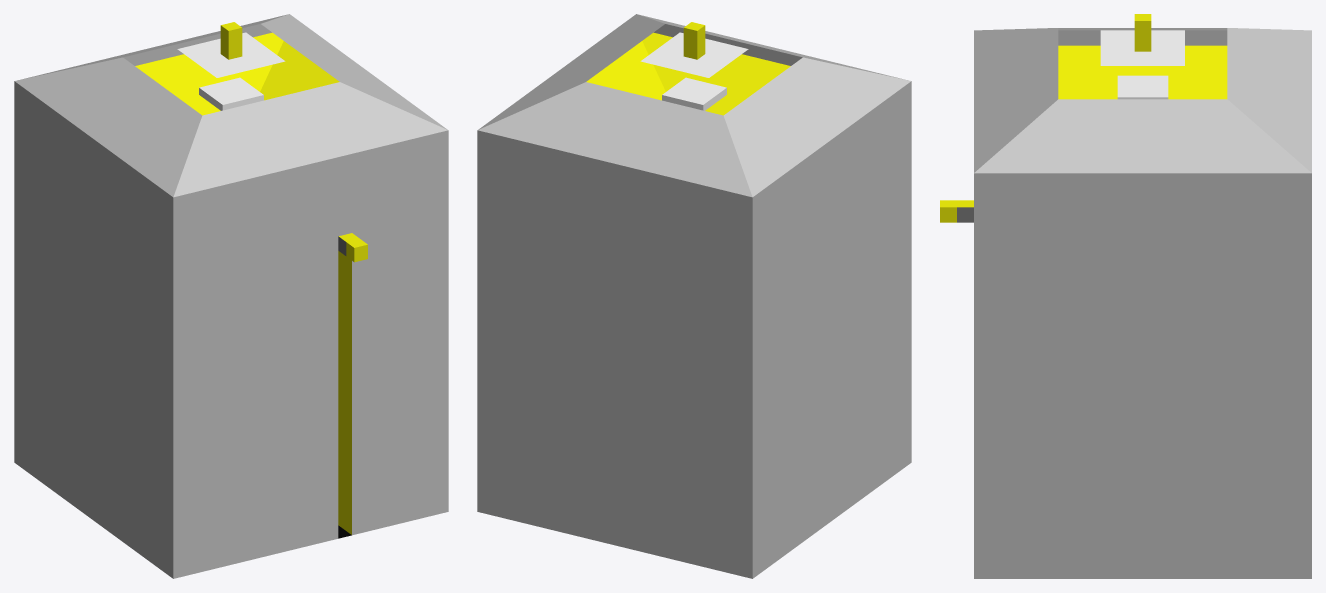
The model's file is thi_segment7.0x0D444.collision.obj.
The picture shows the model from 3 angles, left to right: view 1: azimuth 30°, elevation 25°; view 2: azimuth 150°, elevation 25°; view 3: azimuth 270°, elevation 25°; orthographic projection. The views are drawn at different scales.
Parts seen in each view (by area): view 1: thi_segment7_0D444_66, thi_segment7_0D444_normal, thi_segment7_0D444_snowy2; view 2: thi_segment7_0D444_66, thi_segment7_0D444_normal, thi_segment7_0D444_snowy2; view 3: thi_segment7_0D444_66, thi_segment7_0D444_normal, thi_segment7_0D444_snowy2.
Part boxes in pixels (left/top/right/bottom): thi_segment7_0D444_66: left=14, top=14, right=448, bottom=578; thi_segment7_0D444_normal: left=135, top=22, right=367, bottom=534; thi_segment7_0D444_snowy2: left=177, top=32, right=285, bottom=110; thi_segment7_0D444_66: left=477, top=14, right=911, bottom=578; thi_segment7_0D444_normal: left=586, top=22, right=790, bottom=115; thi_segment7_0D444_snowy2: left=640, top=32, right=748, bottom=110; thi_segment7_0D444_66: left=974, top=28, right=1311, bottom=578; thi_segment7_0D444_normal: left=940, top=14, right=1227, bottom=222; thi_segment7_0D444_snowy2: left=1100, top=30, right=1184, bottom=99.
Bounding box in the file's own units: 4 × 6.4 × 4.4.
